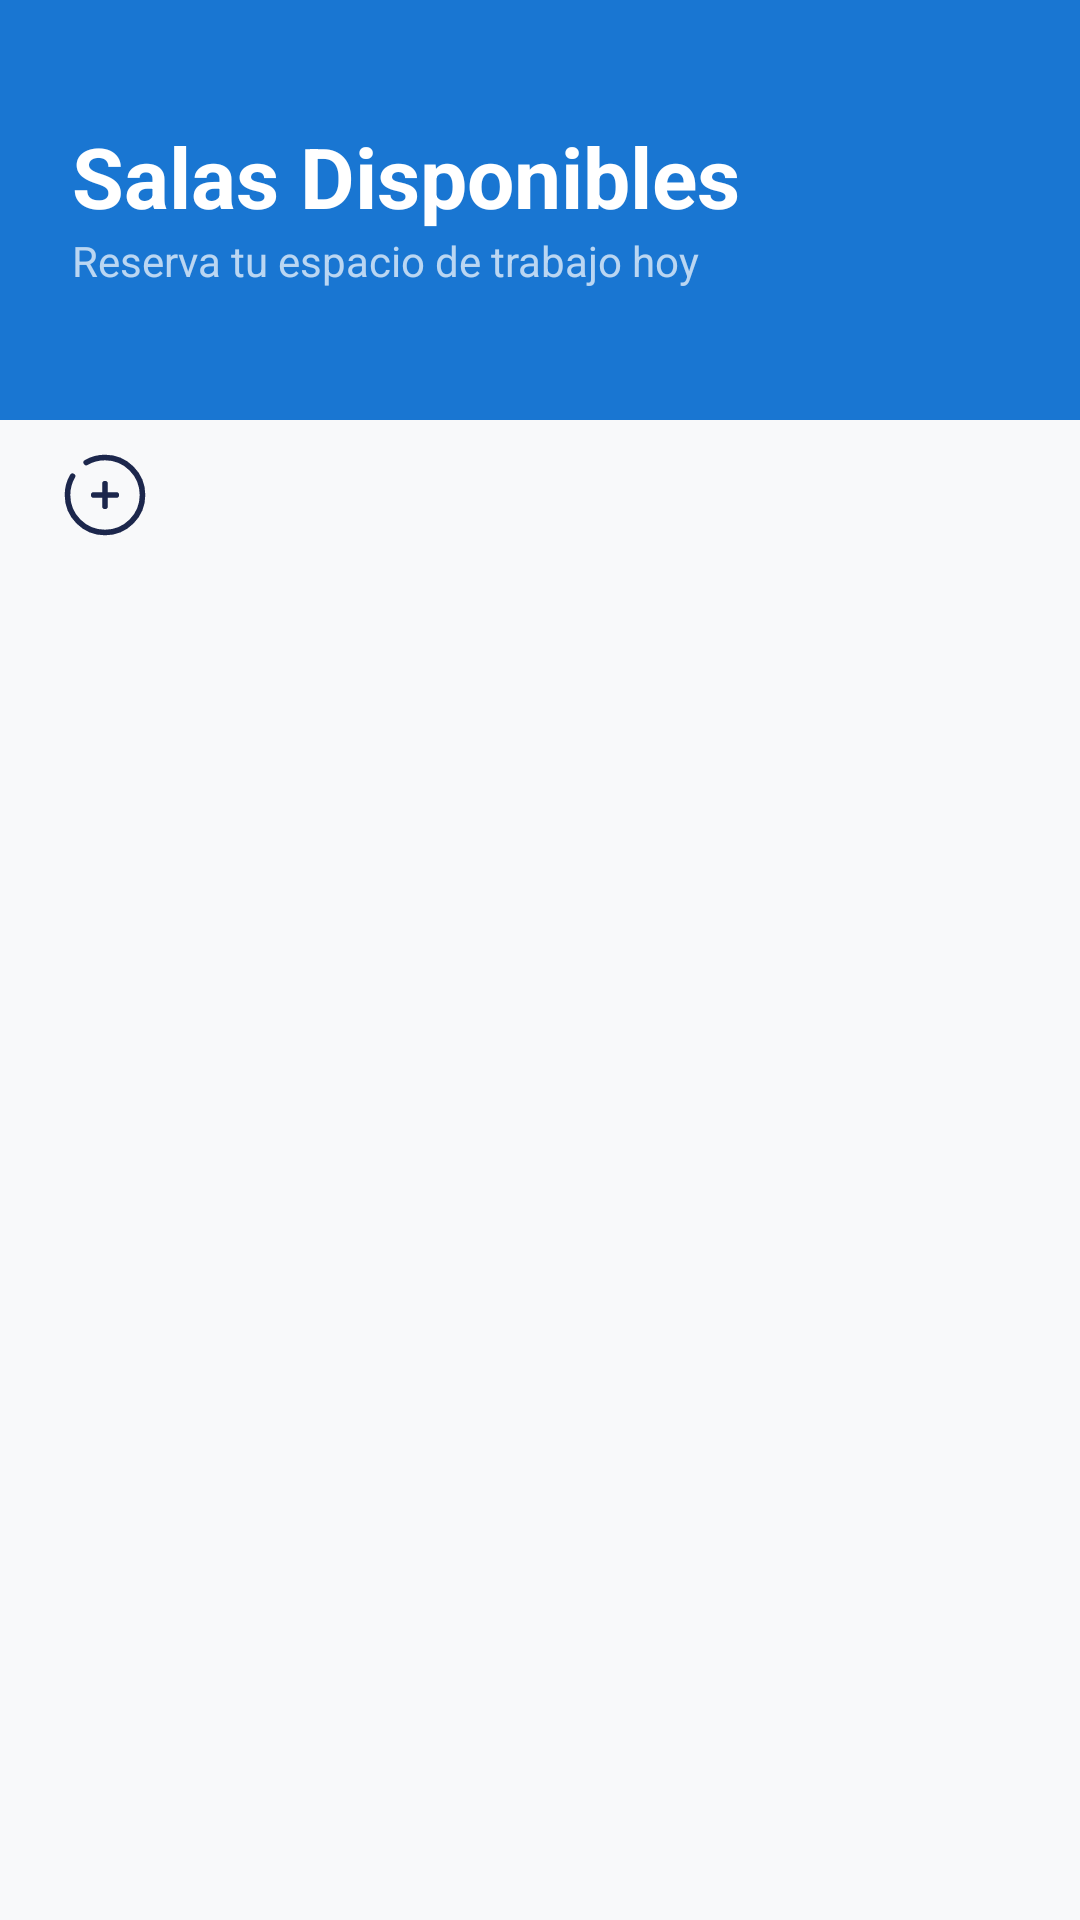

Icon click points for this 1080w x 1920h phone screenshot, format point (x, y):
add sala: point (105, 495)
